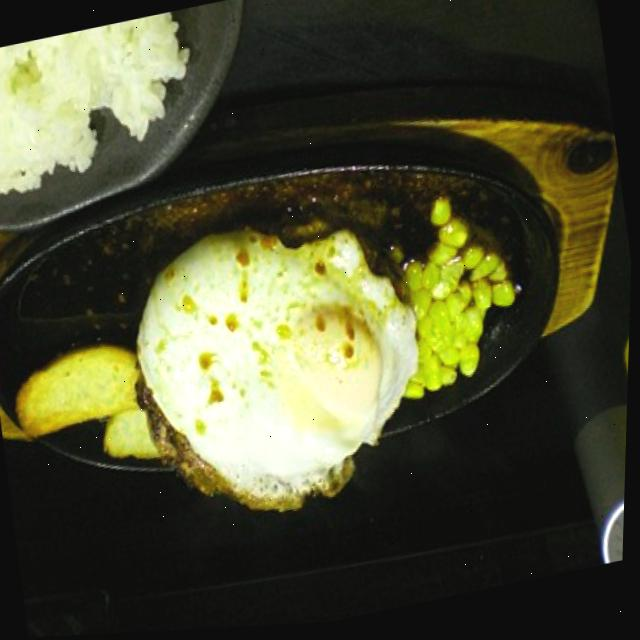鸡蛋料理: (123, 210, 442, 537)
